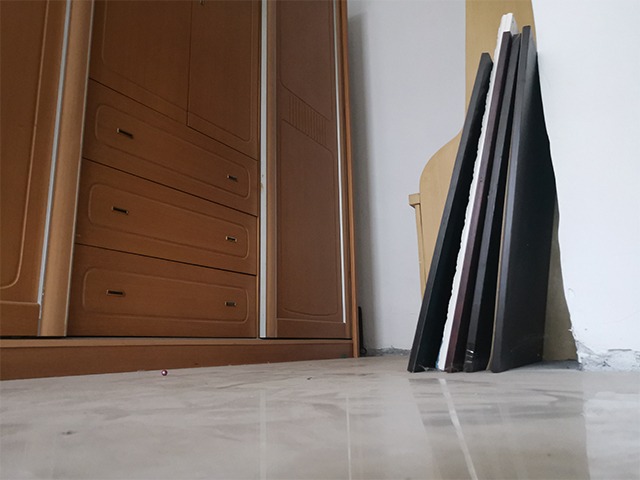cabinet: (1, 1, 363, 382)
